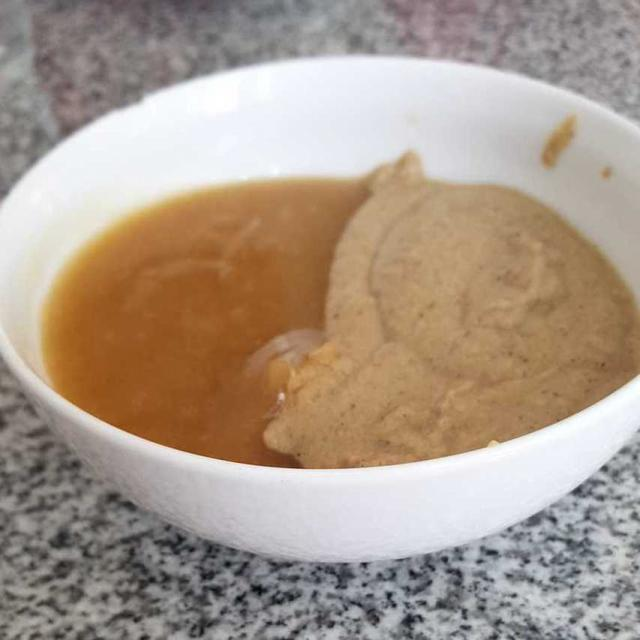applesauce-unsweetened-canned: (54, 162, 394, 469)
